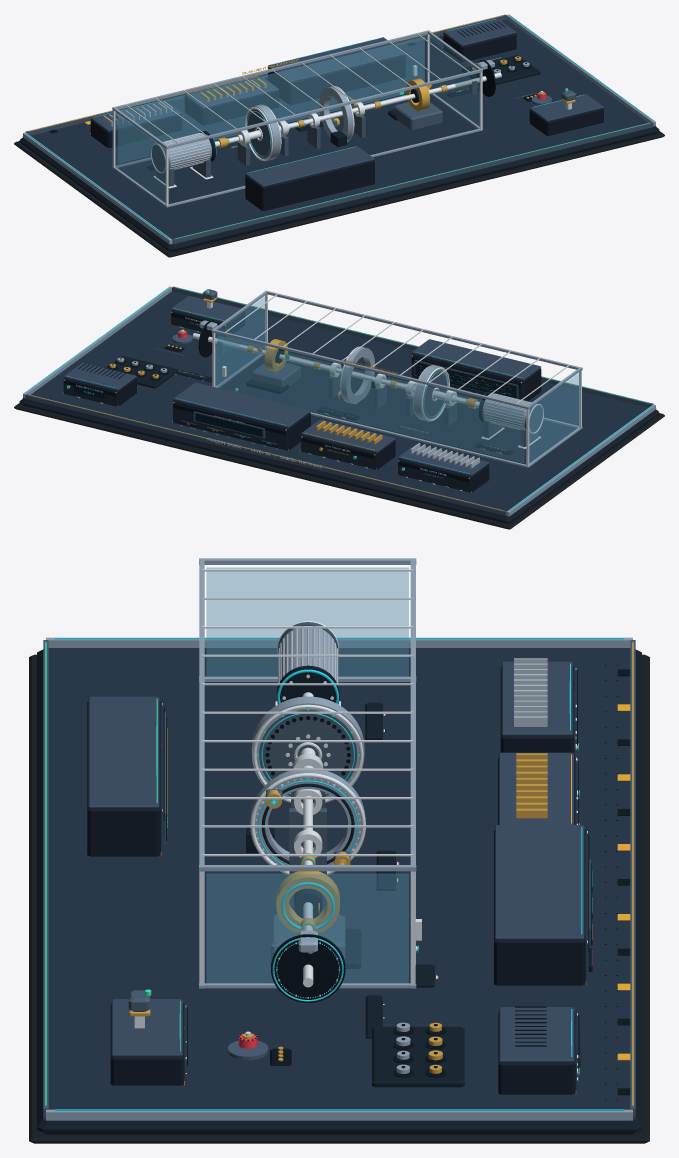
Rendered from Level52_Complete_ArtKit_Showcase.fbx.
3 renders of one model, top to bottom at view 1: azimuth 30°, elevation 25°; view 2: azimuth 150°, elevation 25°; view 3: azimuth 270°, elevation 25°, orthographic. The views are drawn at different scales.
Parts seen in each view (by area): view 1: 00_L52_IndustrialBase__L52_PRECISION_BENCH_BrushedWorkSurfac, 12_L52_SafetyGuard__L52_ACTIVE_GUARD_TransparentFrontSwingDo, 00_L52_IndustrialBase__L52_PRECISION_BENCH_TitaniumMachinedM, 00_L52_IndustrialBase__L52_PRECISION_BENCH_RubberShockBase, 11_L52_SpectrumMonitor__L52_WAVEFORM_MONITOR_Chassis, 10_L52_BalanceController__L52_BALANCE_CTRL_Chassis, 00_L52_IndustrialBase__L52_PRECISION_BENCH_EndRail_11.25, 12_L52_SafetyGuard__L52_ACTIVE_GUARD_ClearSideWall_-13.9, 12_L52_SafetyGuard__L52_ACTIVE_GUARD_ClearSideWall_13.9, 10_L52_BalanceController__L52_BALANCE_CTRL_Top_Lid, 11_L52_SpectrumMonitor__L52_WAVEFORM_MONITOR_Top_Lid, 09_L52_BalanceDriver__L52_BAL_DRIVER_Chassis (+23 smaller); view 2: 00_L52_IndustrialBase__L52_PRECISION_BENCH_BrushedWorkSurfac, 12_L52_SafetyGuard__L52_ACTIVE_GUARD_TransparentFrontSwingDo, 00_L52_IndustrialBase__L52_PRECISION_BENCH_TitaniumMachinedM, 00_L52_IndustrialBase__L52_PRECISION_BENCH_RubberShockBase, 12_L52_SafetyGuard__L52_ACTIVE_GUARD_ClearSideWall_-13.9, 00_L52_IndustrialBase__L52_PRECISION_BENCH_EndRail_-11.25, 10_L52_BalanceController__L52_BALANCE_CTRL_Top_Lid, 12_L52_SafetyGuard__L52_ACTIVE_GUARD_ClearSideWall_13.9, 11_L52_SpectrumMonitor__L52_WAVEFORM_MONITOR_Top_Lid, 00_L52_IndustrialBase__L52_PRECISION_BENCH_EndRail_11.25, 10_L52_BalanceController__L52_BALANCE_CTRL_Front_Console_Pla, 12_L52_SafetyGuard__L52_ACTIVE_GUARD_CrossBar_5.9_-4.05 (+31 smaller); view 3: 00_L52_IndustrialBase__L52_PRECISION_BENCH_BrushedWorkSurfac, 12_L52_SafetyGuard__L52_ACTIVE_GUARD_ClearSideWall_13.9, 12_L52_SafetyGuard__L52_ACTIVE_GUARD_ClearSideWall_-13.9, 00_L52_IndustrialBase__L52_PRECISION_BENCH_TitaniumMachinedM, 00_L52_IndustrialBase__L52_PRECISION_BENCH_RubberShockBase, 10_L52_BalanceController__L52_BALANCE_CTRL_Top_Lid, 11_L52_SpectrumMonitor__L52_WAVEFORM_MONITOR_Top_Lid, 00_L52_IndustrialBase__L52_PRECISION_BENCH_RimSupport_21.4, 00_L52_IndustrialBase__L52_PRECISION_BENCH_RimSupport_-21.4, 10_L52_BalanceController__L52_BALANCE_CTRL_Chassis, 13_L52_ServiceTray__L52_BALANCE_SERVICE_PartsStoragePocket, 14_L52_5VSupply__L52_POWER_Top_Lid (+30 smaller).
Part boxes in pixels (box(x1,y1,x2,y2)): 00_L52_IndustrialBase__L52_PRECISION_BENCH_BrushedWorkSurfac: box(22, 19, 656, 245); 12_L52_SafetyGuard__L52_ACTIVE_GUARD_TransparentFrontSwingDo: box(118, 36, 424, 163); 00_L52_IndustrialBase__L52_PRECISION_BENCH_TitaniumMachinedM: box(19, 127, 659, 251); 00_L52_IndustrialBase__L52_PRECISION_BENCH_RubberShockBase: box(14, 131, 664, 257); 11_L52_SpectrumMonitor__L52_WAVEFORM_MONITOR_Chassis: box(245, 160, 374, 210); 10_L52_BalanceController__L52_BALANCE_CTRL_Chassis: box(268, 54, 405, 105); 00_L52_IndustrialBase__L52_PRECISION_BENCH_EndRail_11.25: box(172, 122, 653, 243); 12_L52_SafetyGuard__L52_ACTIVE_GUARD_ClearSideWall_-13.9: box(115, 112, 165, 203); 12_L52_SafetyGuard__L52_ACTIVE_GUARD_ClearSideWall_13.9: box(429, 36, 479, 126); 10_L52_BalanceController__L52_BALANCE_CTRL_Top_Lid: box(268, 37, 404, 82); 11_L52_SpectrumMonitor__L52_WAVEFORM_MONITOR_Top_Lid: box(245, 146, 374, 186); 09_L52_BalanceDriver__L52_BAL_DRIVER_Chassis: box(184, 90, 279, 125); 00_L52_IndustrialBase__L52_PRECISION_BENCH_BrushedWorkSurfac: box(22, 291, 656, 517); 12_L52_SafetyGuard__L52_ACTIVE_GUARD_TransparentFrontSwingDo: box(217, 336, 523, 462); 00_L52_IndustrialBase__L52_PRECISION_BENCH_TitaniumMachinedM: box(19, 399, 659, 523); 00_L52_IndustrialBase__L52_PRECISION_BENCH_RubberShockBase: box(14, 403, 664, 529); 12_L52_SafetyGuard__L52_ACTIVE_GUARD_ClearSideWall_-13.9: box(529, 373, 579, 463); 00_L52_IndustrialBase__L52_PRECISION_BENCH_EndRail_-11.25: box(25, 394, 506, 515); 10_L52_BalanceController__L52_BALANCE_CTRL_Top_Lid: box(173, 382, 310, 427); 12_L52_SafetyGuard__L52_ACTIVE_GUARD_ClearSideWall_13.9: box(215, 296, 265, 386); 11_L52_SpectrumMonitor__L52_WAVEFORM_MONITOR_Top_Lid: box(411, 339, 540, 379); 00_L52_IndustrialBase__L52_PRECISION_BENCH_EndRail_11.25: box(172, 286, 653, 407); 10_L52_BalanceController__L52_BALANCE_CTRL_Front_Console_Pla: box(173, 400, 287, 450); 12_L52_SafetyGuard__L52_ACTIVE_GUARD_CrossBar_5.9_-4.05: box(212, 329, 529, 409); 00_L52_IndustrialBase__L52_PRECISION_BENCH_BrushedWorkSurfac: box(43, 648, 635, 1121); 12_L52_SafetyGuard__L52_ACTIVE_GUARD_ClearSideWall_13.9: box(206, 874, 408, 983); 12_L52_SafetyGuard__L52_ACTIVE_GUARD_ClearSideWall_-13.9: box(206, 567, 408, 676); 00_L52_IndustrialBase__L52_PRECISION_BENCH_TitaniumMachinedM: box(37, 649, 641, 1134); 00_L52_IndustrialBase__L52_PRECISION_BENCH_RubberShockBase: box(29, 654, 649, 1143); 10_L52_BalanceController__L52_BALANCE_CTRL_Top_Lid: box(495, 825, 584, 939); 11_L52_SpectrumMonitor__L52_WAVEFORM_MONITOR_Top_Lid: box(88, 696, 159, 807); 00_L52_IndustrialBase__L52_PRECISION_BENCH_RimSupport_21.4: box(46, 1109, 632, 1120); 00_L52_IndustrialBase__L52_PRECISION_BENCH_RimSupport_-21.4: box(46, 637, 632, 647); 10_L52_BalanceController__L52_BALANCE_CTRL_Chassis: box(494, 830, 584, 985); 13_L52_ServiceTray__L52_BALANCE_SERVICE_PartsStoragePocket: box(372, 1026, 464, 1087); 14_L52_5VSupply__L52_POWER_Top_Lid: box(499, 1007, 574, 1062).
Bounding box in the file's own units: 44 × 6.27 × 23.8.
